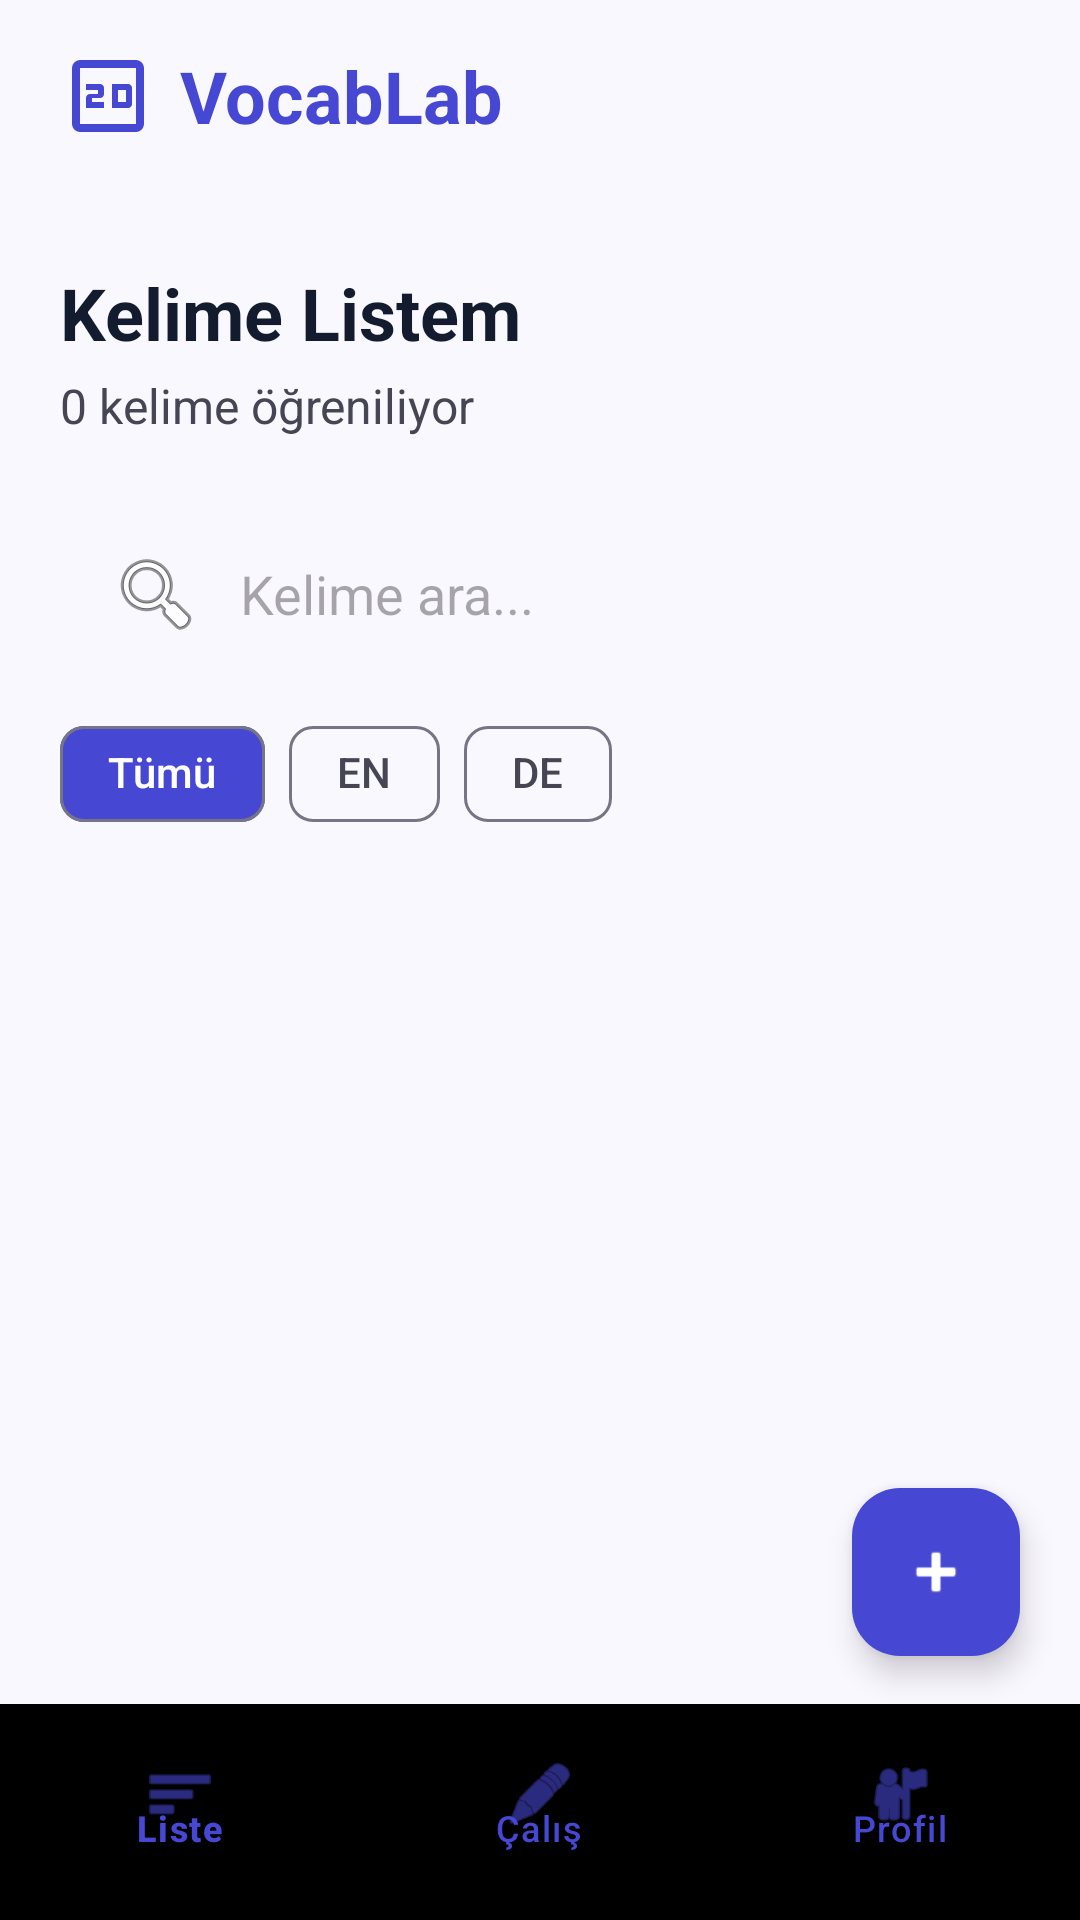

Icons on this 1080×1920 Android screen, each with its box as (x1, y1, x2, y2):
add: (852, 1488, 1020, 1656)
